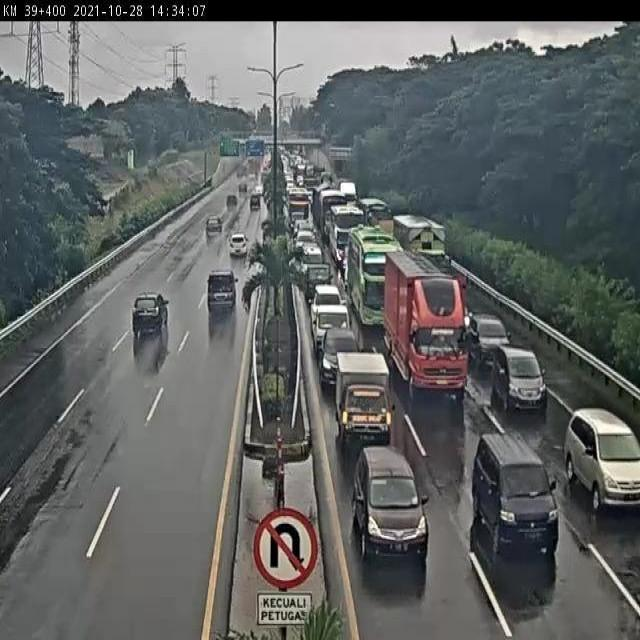bus-l-: (348, 228, 401, 329), (331, 201, 365, 260), (364, 198, 393, 226)
car: (475, 435, 560, 556), (345, 446, 428, 562), (563, 413, 640, 511), (335, 352, 395, 448), (488, 341, 544, 408), (320, 331, 361, 386), (313, 303, 352, 357), (466, 313, 508, 360), (132, 293, 171, 335), (207, 268, 240, 317), (298, 258, 330, 298), (307, 283, 346, 308), (448, 299, 471, 340), (296, 238, 320, 266)
truck-l-: (388, 248, 467, 395), (392, 212, 456, 284)
